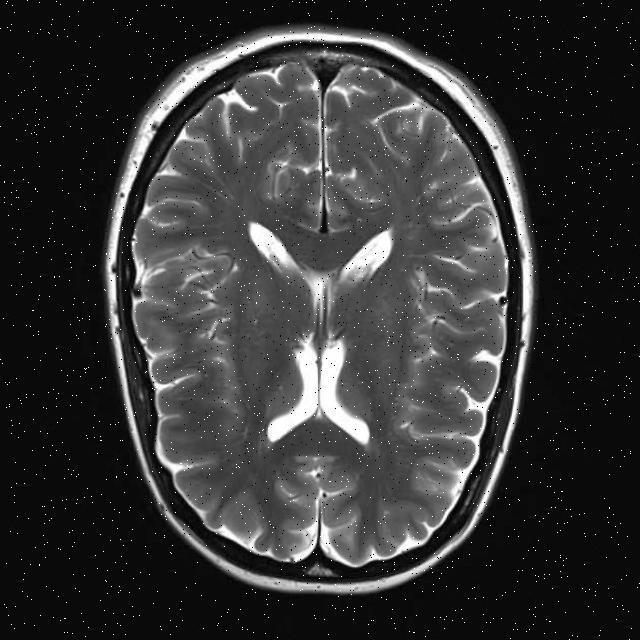No_Tumor: (106, 27, 533, 592)
